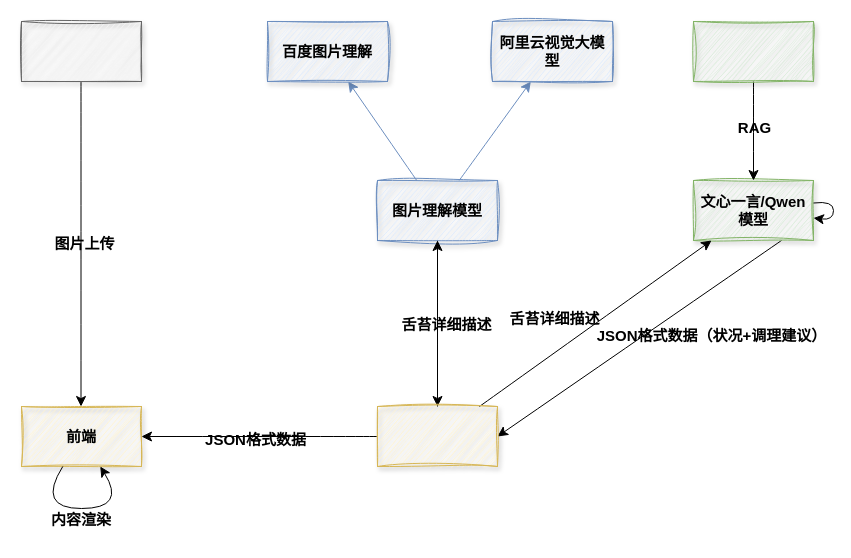
The diagram is 851 pixels wide and 558 high, and some of its shapes have lost their labels. The shapes that lost their labels are listed below. From the top down, each one's centre as x and y in pixels, then its label:
At pixel 82 52: "用户上传图片".
At pixel 754 52: "中医知识库".
At pixel 438 438: "服务器端".
